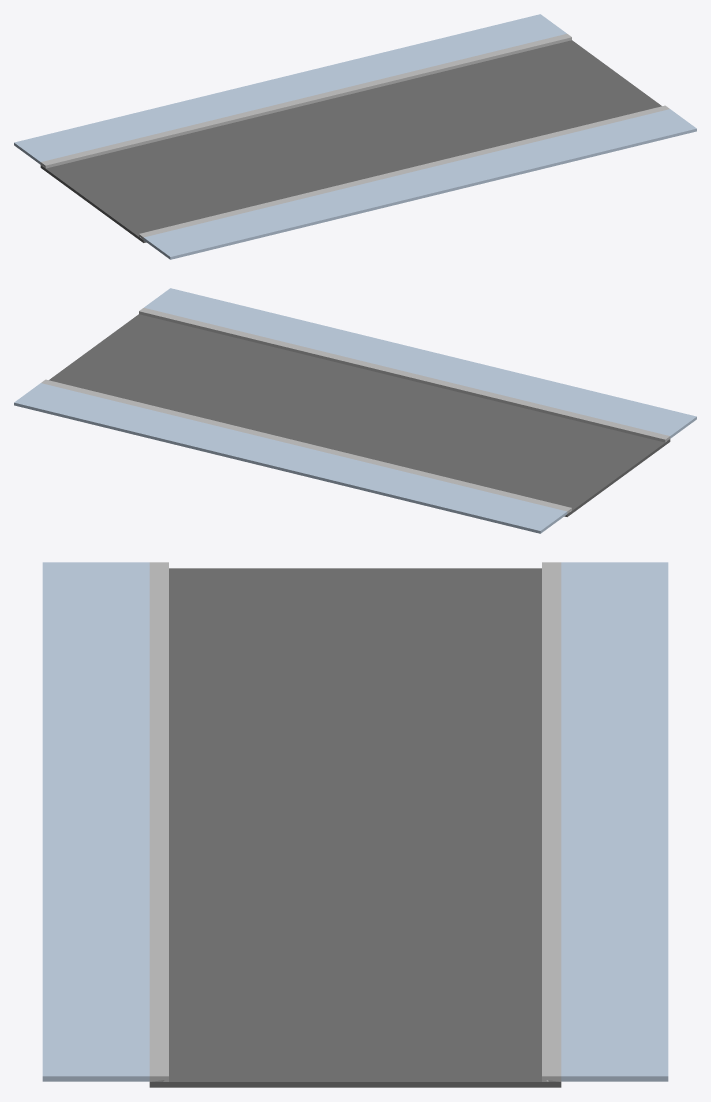
File: road.glb
The picture shows the model from 3 angles, top to bottom: view 1: azimuth 30°, elevation 25°; view 2: azimuth 150°, elevation 25°; view 3: azimuth 270°, elevation 25°; orthographic projection. The views are drawn at different scales.
Parts seen in each view (by area): view 1: 2-way road; view 2: 2-way road; view 3: 2-way road.
Boxes of the visible parts, x1=… form: 2-way road: x1=14, y1=14, x2=696, y2=259; 2-way road: x1=14, y1=288, x2=696, y2=533; 2-way road: x1=42, y1=562, x2=668, y2=1087.
Bounding box in the file's own units: 197 × 2.06 × 101.
